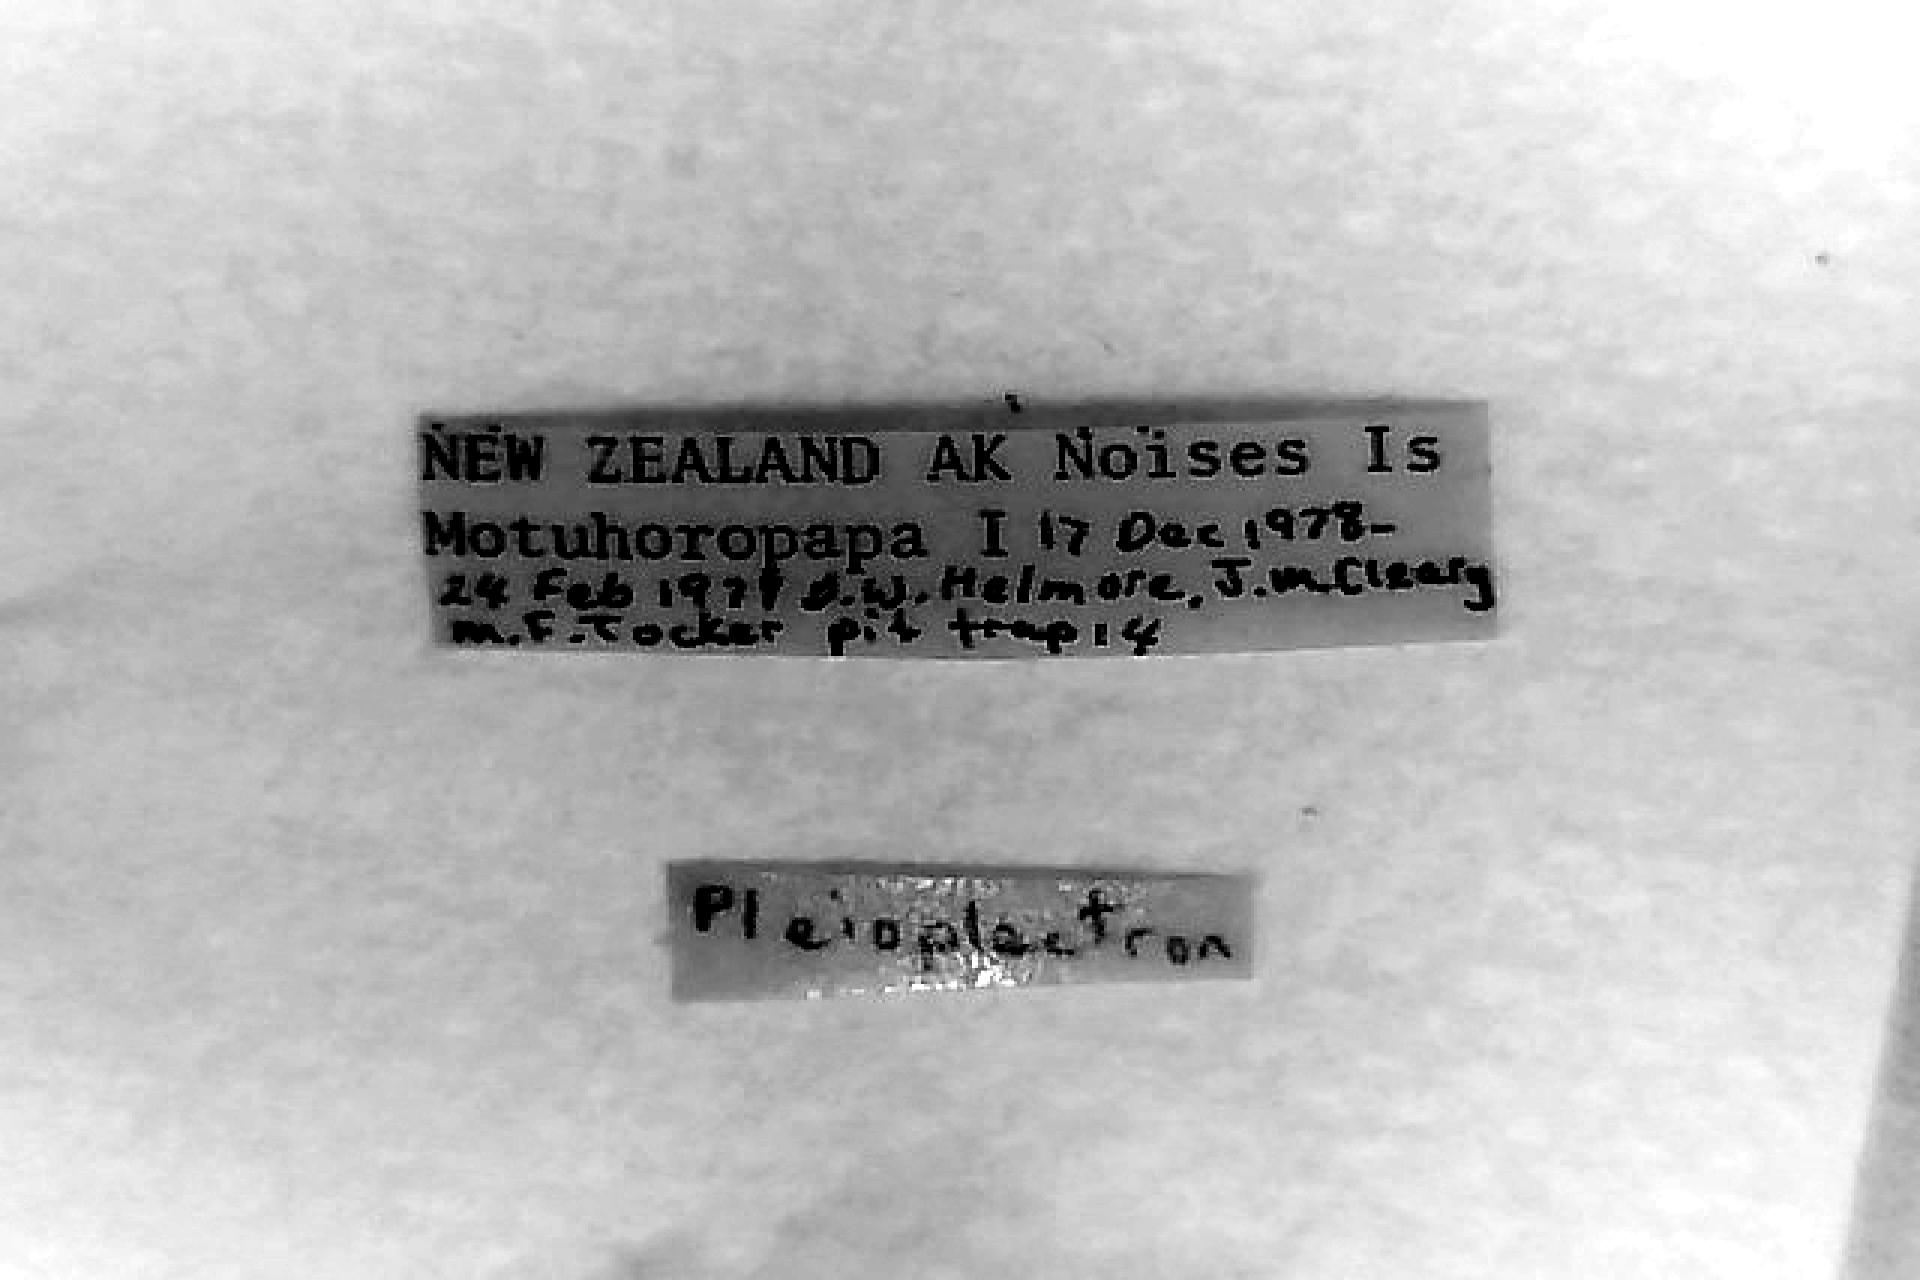hand_label: (673, 863, 1252, 998)
mixed_label: (420, 408, 1496, 655)
